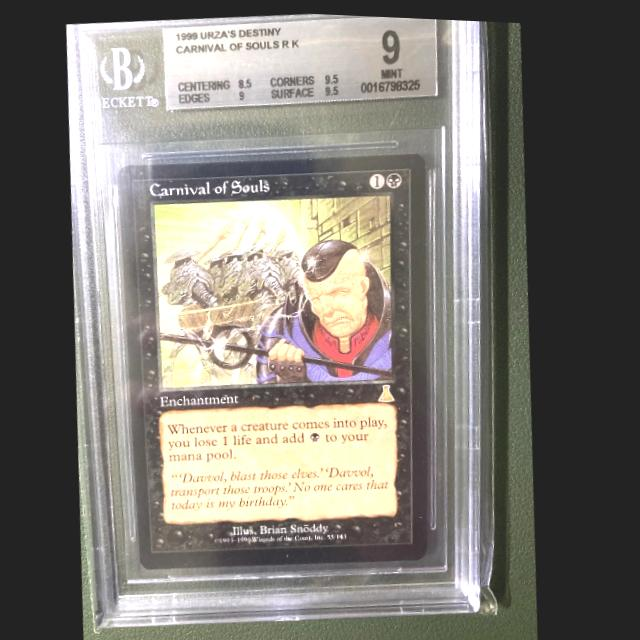bgs_label: (161, 13, 438, 107)
bgs_slab: (65, 11, 488, 627)
card: (115, 148, 435, 569)
